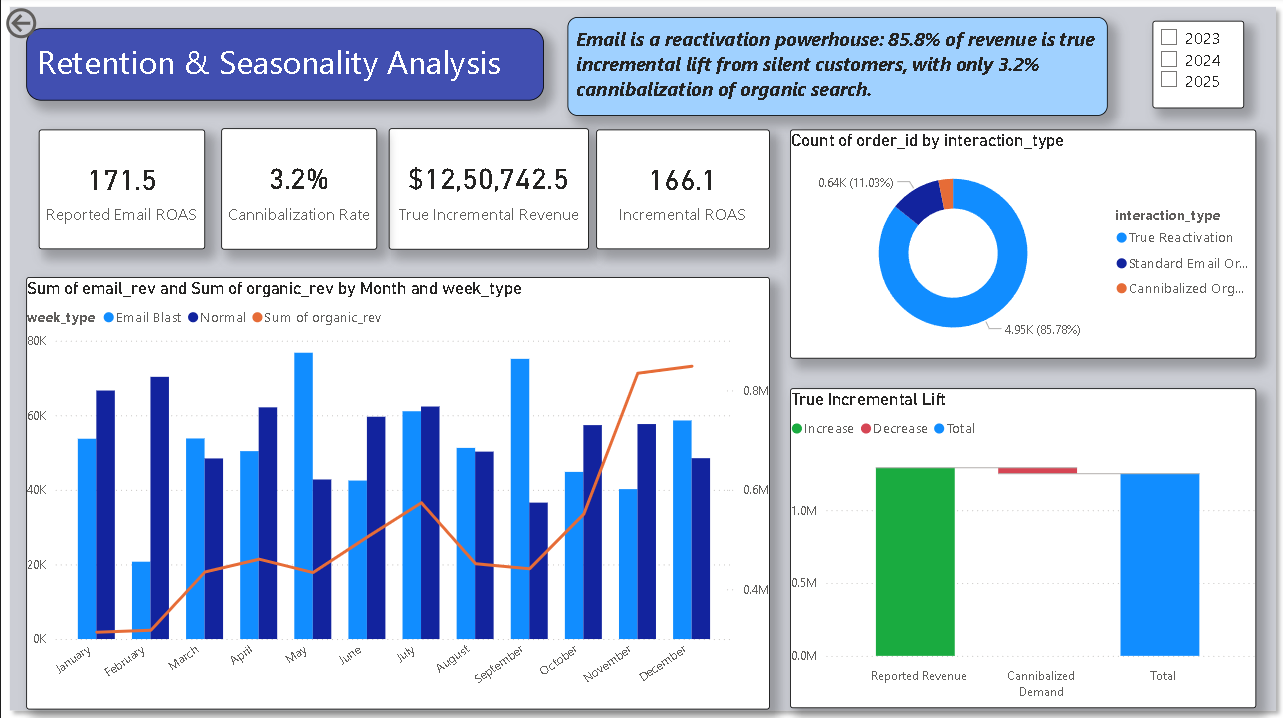

Layout of this report page (visuals, bound fields, positions):
{"tool":"powerbi","page":{"name":"PS-3","canvas":[1280,720],"ordinal":3},"visuals":[{"type":"textbox","box":[0,0,565.4,91.9],"z":0},{"type":"shape","box":[0,0,1280,720.3],"z":1000},{"type":"textbox","box":[26.1,31.1,515,72.1],"z":2000},{"type":"textbox","box":[564.8,19.9,537.4,98.3],"z":3000},{"type":"actionButton","box":[1.2,6.2,49.8,39.8],"z":4000},{"type":"lineClusteredColumnComboChart","fields":{"Category":["v_ps3_weekly_suppression.order_week.Variation.Date Hierarchy.Month","v_ps3_weekly_suppression.order_week.Variation.Date Hierarchy.Day"],"Y":["Sum(v_ps3_weekly_suppression.email_rev)"],"Y2":["Sum(v_ps3_weekly_suppression.organic_rev)"],"Series":["v_ps3_weekly_suppression.week_type"]},"box":[26.1,278.6,740.2,430.4],"z":5000},{"type":"slicer","fields":{"Values":["v_ps3_weekly_suppression.order_week.Variation.Date Hierarchy.Year"]},"box":[1146.9,23.6,90.8,87.1],"z":6000},{"type":"waterfallChart","title":"True Incremental Lift","fields":{"Category":["v_ps3_waterfall_bridge.step"],"Y":["Measures (2).Truth Waterfall Value"]},"box":[786.2,389.4,464,318.5],"z":7000},{"type":"donutChart","fields":{"Y":["Count(v_ps3_user_overlap.order_id)"],"Category":["v_ps3_user_overlap.interaction_type"]},"box":[786.2,131.9,464,227.6],"z":8000},{"type":"card","fields":{"Values":["Measures (2).Reported Email ROAS"]},"box":[38.6,131.9,165.4,119.4],"z":9000},{"type":"card","fields":{"Values":["Measures (2).True Incremental Revenue"]},"box":[386.9,130.6,199,120.7],"z":11000},{"type":"card","fields":{"Values":["Measures (2).Incremental ROAS"]},"box":[593.4,131.9,172.9,119.4],"z":12000},{"type":"card","fields":{"Values":["Measures (2).Cannibalization Rate"]},"box":[220.2,130.6,155.5,120.7],"z":13000}]}

Visuals, with their boxes in screenshot pixels (x1, y1, x2, y2), scaled from the page's 1280x720 canvas onto the 1283x718 screenshot:
textbox: pyautogui.locateOnScreen(0, 0, 567, 92)
shape: pyautogui.locateOnScreen(0, 0, 1282, 717)
textbox: pyautogui.locateOnScreen(26, 31, 542, 103)
textbox: pyautogui.locateOnScreen(566, 20, 1105, 118)
actionButton: pyautogui.locateOnScreen(1, 6, 51, 46)
lineClusteredColumnComboChart - v_ps3_weekly_suppression.order_week.Variation.Date Hierarchy.Month x v_ps3_weekly_suppression.order_week.Variation.Date Hierarchy.Day: pyautogui.locateOnScreen(26, 278, 768, 707)
slicer - v_ps3_weekly_suppression.order_week.Variation.Date Hierarchy.Year: pyautogui.locateOnScreen(1150, 24, 1241, 110)
"True Incremental Lift" waterfallChart: pyautogui.locateOnScreen(788, 388, 1253, 706)
donutChart - Count(v_ps3_user_overlap.order_id) x v_ps3_user_overlap.interaction_type: pyautogui.locateOnScreen(788, 132, 1253, 359)
card - Measures (2).Reported Email ROAS: pyautogui.locateOnScreen(39, 132, 204, 251)
card - Measures (2).True Incremental Revenue: pyautogui.locateOnScreen(388, 130, 587, 251)
card - Measures (2).Incremental ROAS: pyautogui.locateOnScreen(595, 132, 768, 251)
card - Measures (2).Cannibalization Rate: pyautogui.locateOnScreen(221, 130, 377, 251)
